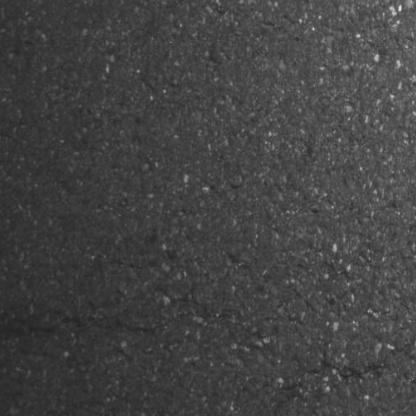Cracks: (272, 331, 416, 416), (102, 315, 156, 338), (153, 287, 196, 308)
